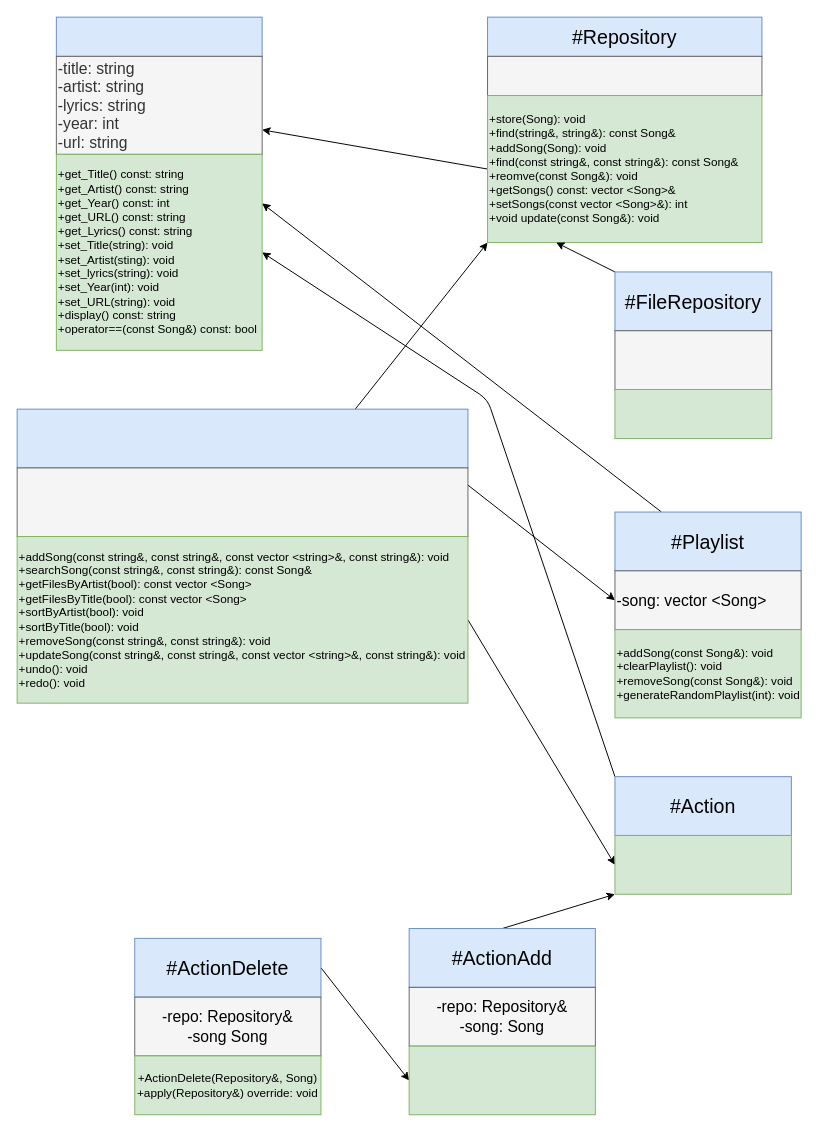
Some shapes in this 818 by 1132 pixel diagram are drawn without their labels. Here are the shapes that lost their labels. From the top down, the box of each, then its label:
(55, 16, 262, 56): #Song
(487, 55, 762, 96): -songs: vector <Song>
(614, 330, 772, 390): -load(): void -save(): void
(614, 389, 772, 439): +filepath: string
(16, 408, 468, 468): #SongController
(16, 467, 468, 537): -repository: Repository& undoStack: stack <Action*> redoStack: stack <Action*>
(614, 834, 791, 894): +apply(Repository&): virtual void
(408, 1045, 595, 1115): +ActionAdd(Repository&, Song) +apply(Repository&) override: void
